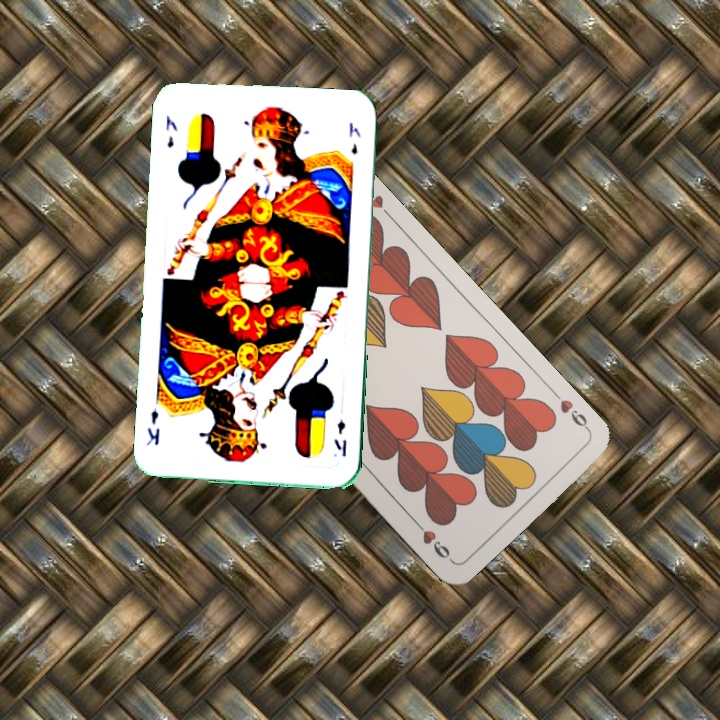EK: (330, 416, 349, 460), (162, 111, 180, 151)
H9: (556, 395, 593, 434)
